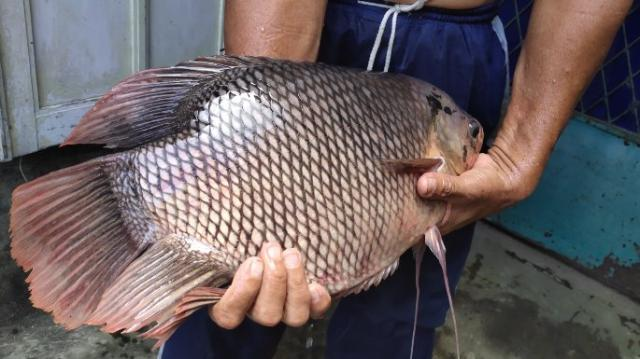Sirip Anal: (73, 229, 229, 359)
Sirip Dada: (364, 138, 446, 188)
Sirip Ekor: (2, 156, 164, 340)
Sirip Perut: (388, 218, 477, 359)
Sirip Punggung: (44, 45, 340, 156)
